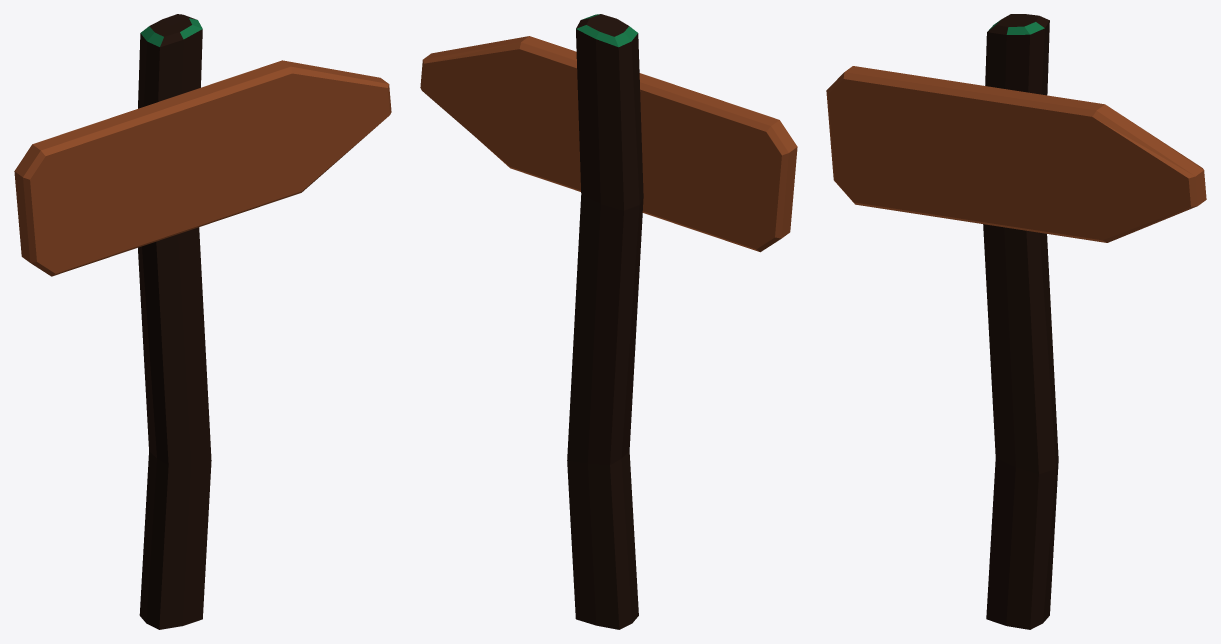
Rendered from SignPost01_FBX.fbx.
3 renders of one model, left to right at view 1: azimuth 30°, elevation 25°; view 2: azimuth 150°, elevation 25°; view 3: azimuth 330°, elevation 25°, orthographic.
Visible parts, largest first — view 1: Sign01Sign, Sign01Post; view 2: Sign01Post, Sign01Sign; view 3: Sign01Sign, Sign01Post.
Part boxes in pixels (box(x1,y1,x2,y2)): Sign01Sign: box(14, 60, 391, 276); Sign01Post: box(138, 14, 211, 629); Sign01Post: box(567, 14, 643, 629); Sign01Sign: box(420, 36, 797, 252); Sign01Sign: box(826, 66, 1206, 242); Sign01Post: box(983, 14, 1058, 629).
Size of the model in its own units: 145 by 224 by 24.1.
